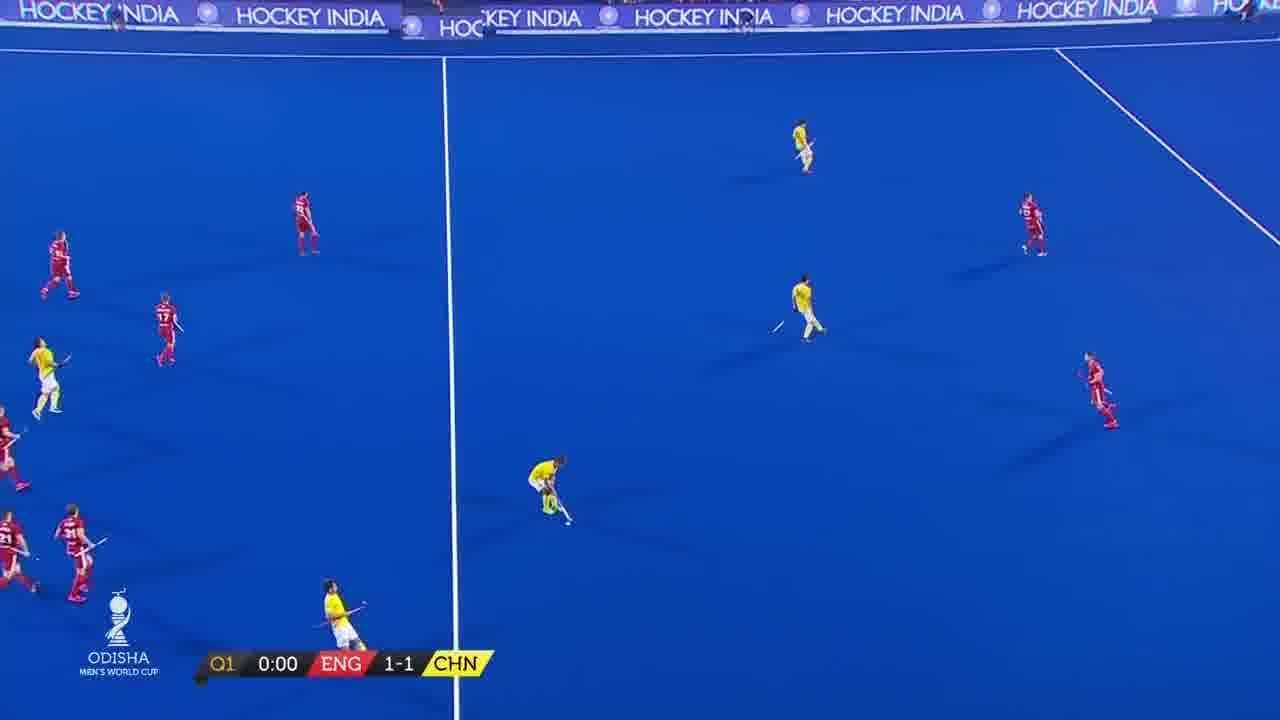ball: (561, 515, 575, 531)
